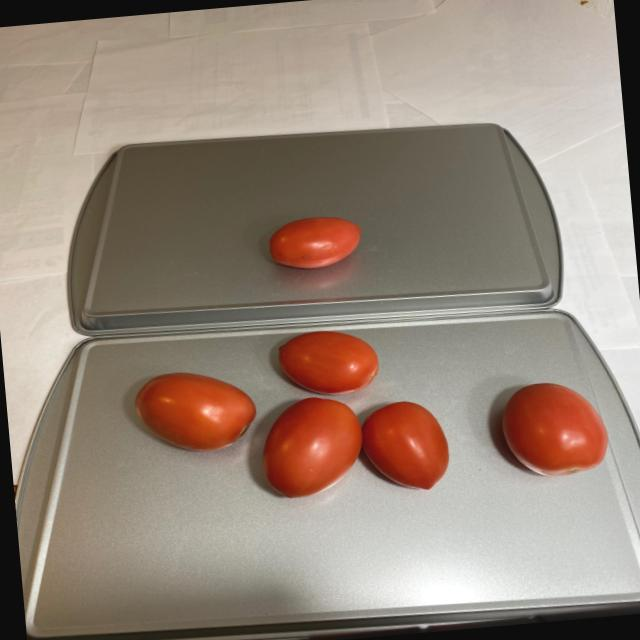tomato: (118, 306, 616, 511), (266, 210, 370, 274)
